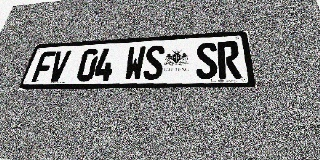0: (75, 49, 100, 81)
4: (93, 48, 116, 81)
F: (31, 51, 56, 82)
R: (217, 41, 242, 79)
S: (196, 42, 218, 79), (143, 45, 165, 80)
V: (47, 50, 72, 82)
W: (123, 46, 146, 81)
